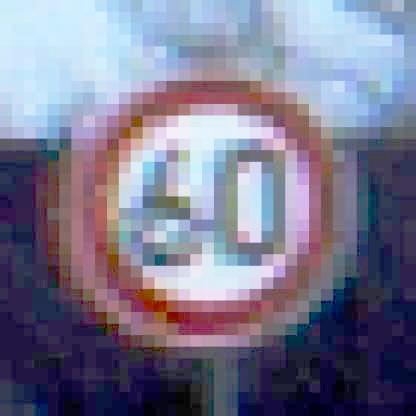Speed Limit -60-: (54, 64, 355, 349)
